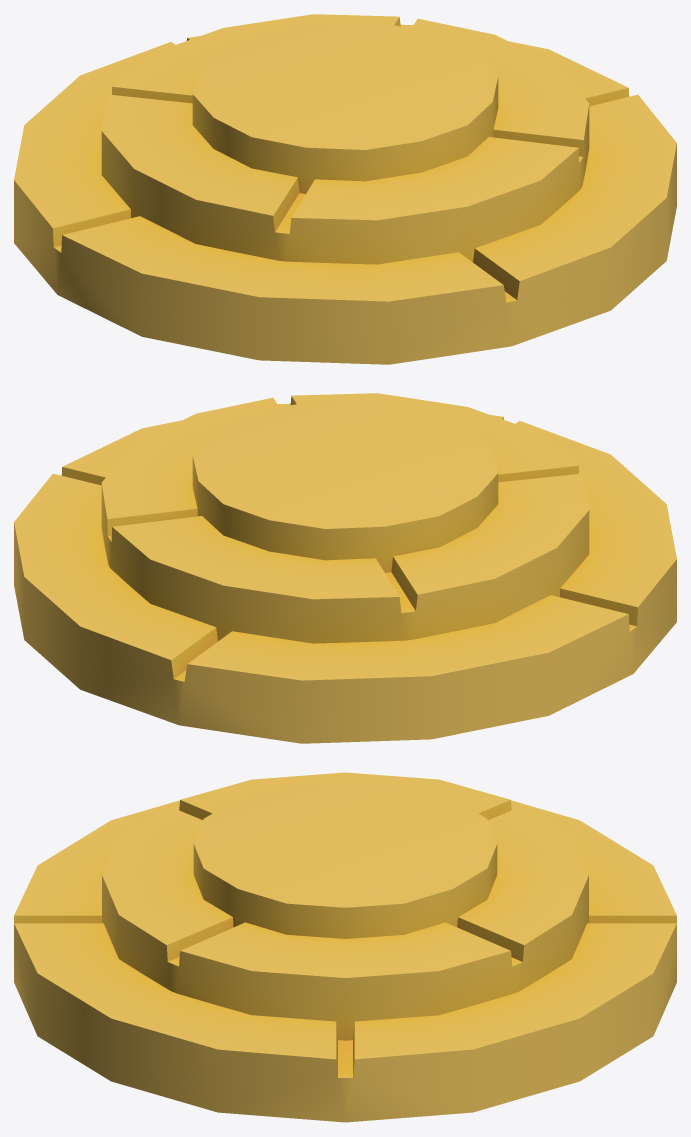
The model's file is goldDecoration02.fbx.
3 views of the same model, one above another, from view 1: azimuth 30°, elevation 25°; view 2: azimuth 150°, elevation 25°; view 3: azimuth 270°, elevation 25° (orthographic).
Visible parts, largest first — view 1: goldDecoration02_geo; view 2: goldDecoration02_geo; view 3: goldDecoration02_geo.
Part boxes in pixels (x1,y1,x2,y2): goldDecoration02_geo: (14, 14, 676, 364); goldDecoration02_geo: (14, 393, 676, 743); goldDecoration02_geo: (14, 772, 676, 1122).
Size of the model in its own units: 95.36 by 22.25 by 95.36.
